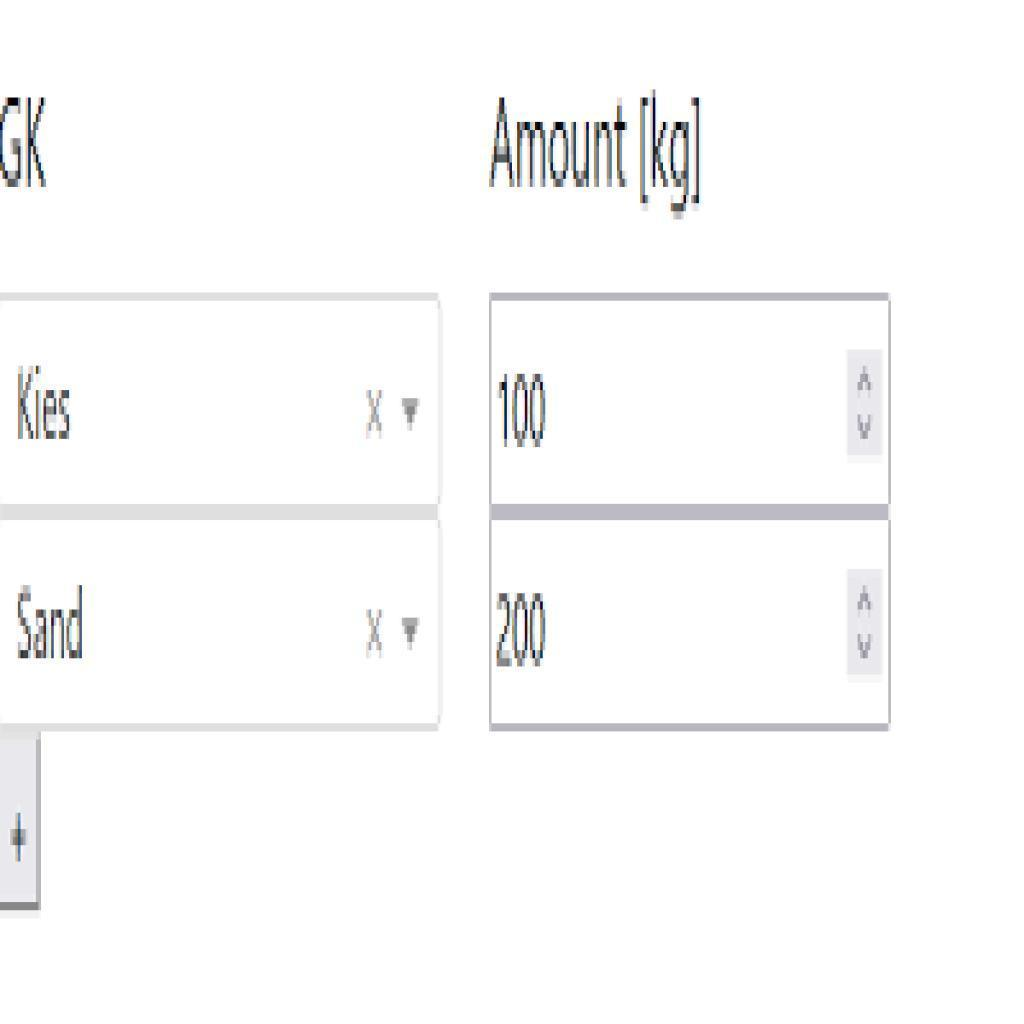dropdown: (1, 510, 445, 732), (1, 294, 443, 510), (487, 292, 892, 511), (490, 515, 893, 732)
icon: (5, 810, 38, 866)
